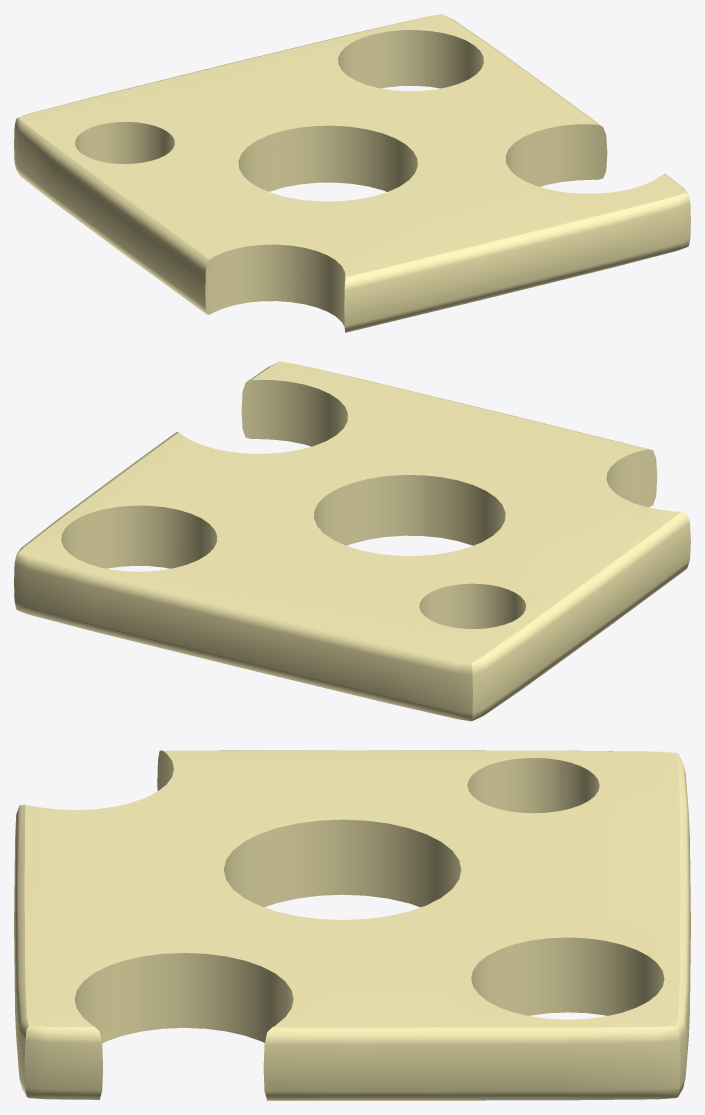
The model's file is Cheese Slice.fbx.
3 renders of one model, top to bottom at view 1: azimuth 30°, elevation 25°; view 2: azimuth 150°, elevation 25°; view 3: azimuth 270°, elevation 25°, orthographic. The views are drawn at different scales.
Parts seen in each view (by area): view 1: Cheese Slice; view 2: Cheese Slice; view 3: Cheese Slice.
Boxes of the visible parts, box(x1,y1,x2,y2) form: Cheese Slice: box(14, 14, 690, 332); Cheese Slice: box(14, 361, 690, 721); Cheese Slice: box(14, 750, 690, 1100).
Size of the model in its own units: 13.57 by 1.66 by 13.57.
